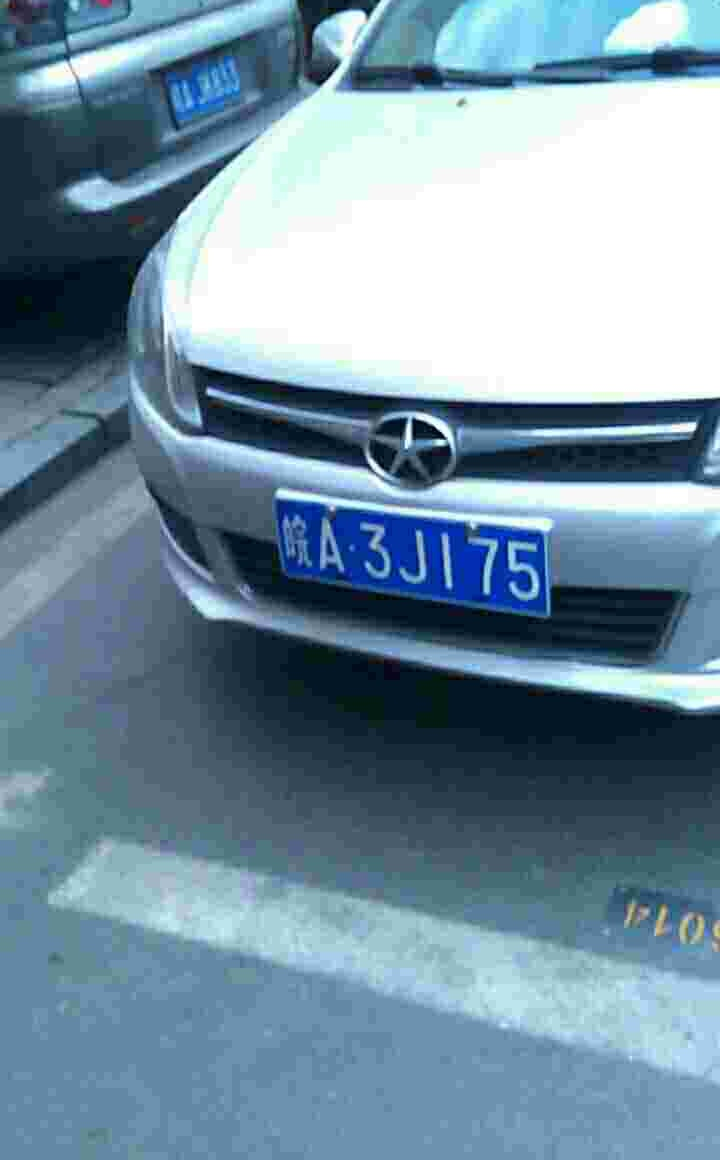license_plate: (266, 492, 560, 626)
